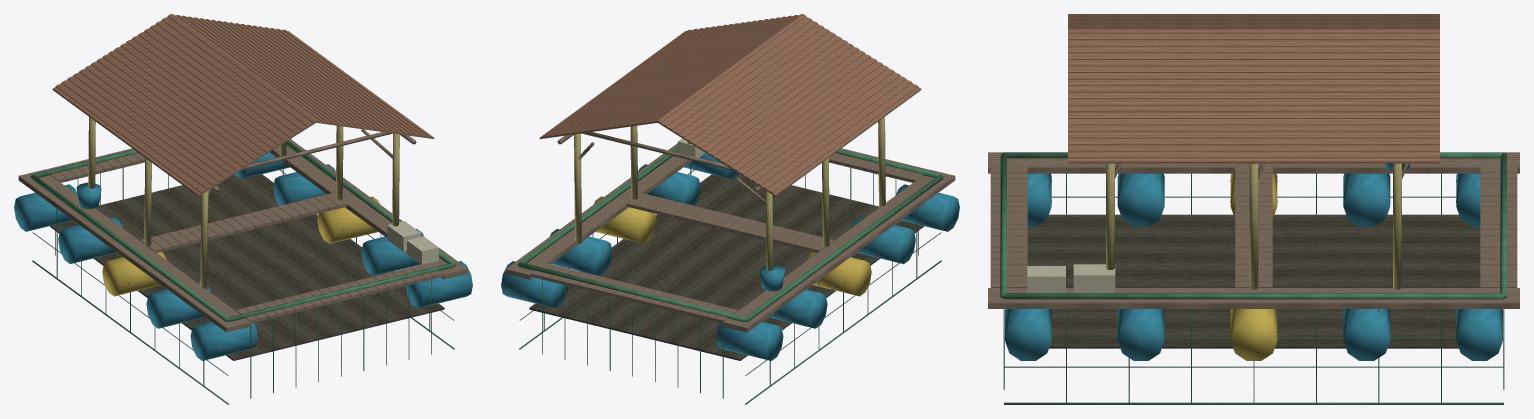
File: bung-raft-1-rust.glb
3 renders of one model, left to right at view 1: azimuth 30°, elevation 25°; view 2: azimuth 150°, elevation 25°; view 3: azimuth 270°, elevation 25°, orthographic. The views are drawn at different scales.
Visible parts, largest first — view 1: bung-raft-1-rust; view 2: bung-raft-1-rust; view 3: bung-raft-1-rust.
Part boxes in pixels (x1,y1,x2,y2): bung-raft-1-rust: (14,14,472,404); bung-raft-1-rust: (501,14,959,404); bung-raft-1-rust: (988,14,1519,404).
Bounding box in the file's own units: 4.84 × 4.18 × 6.6.
1 material, 1 textured.
